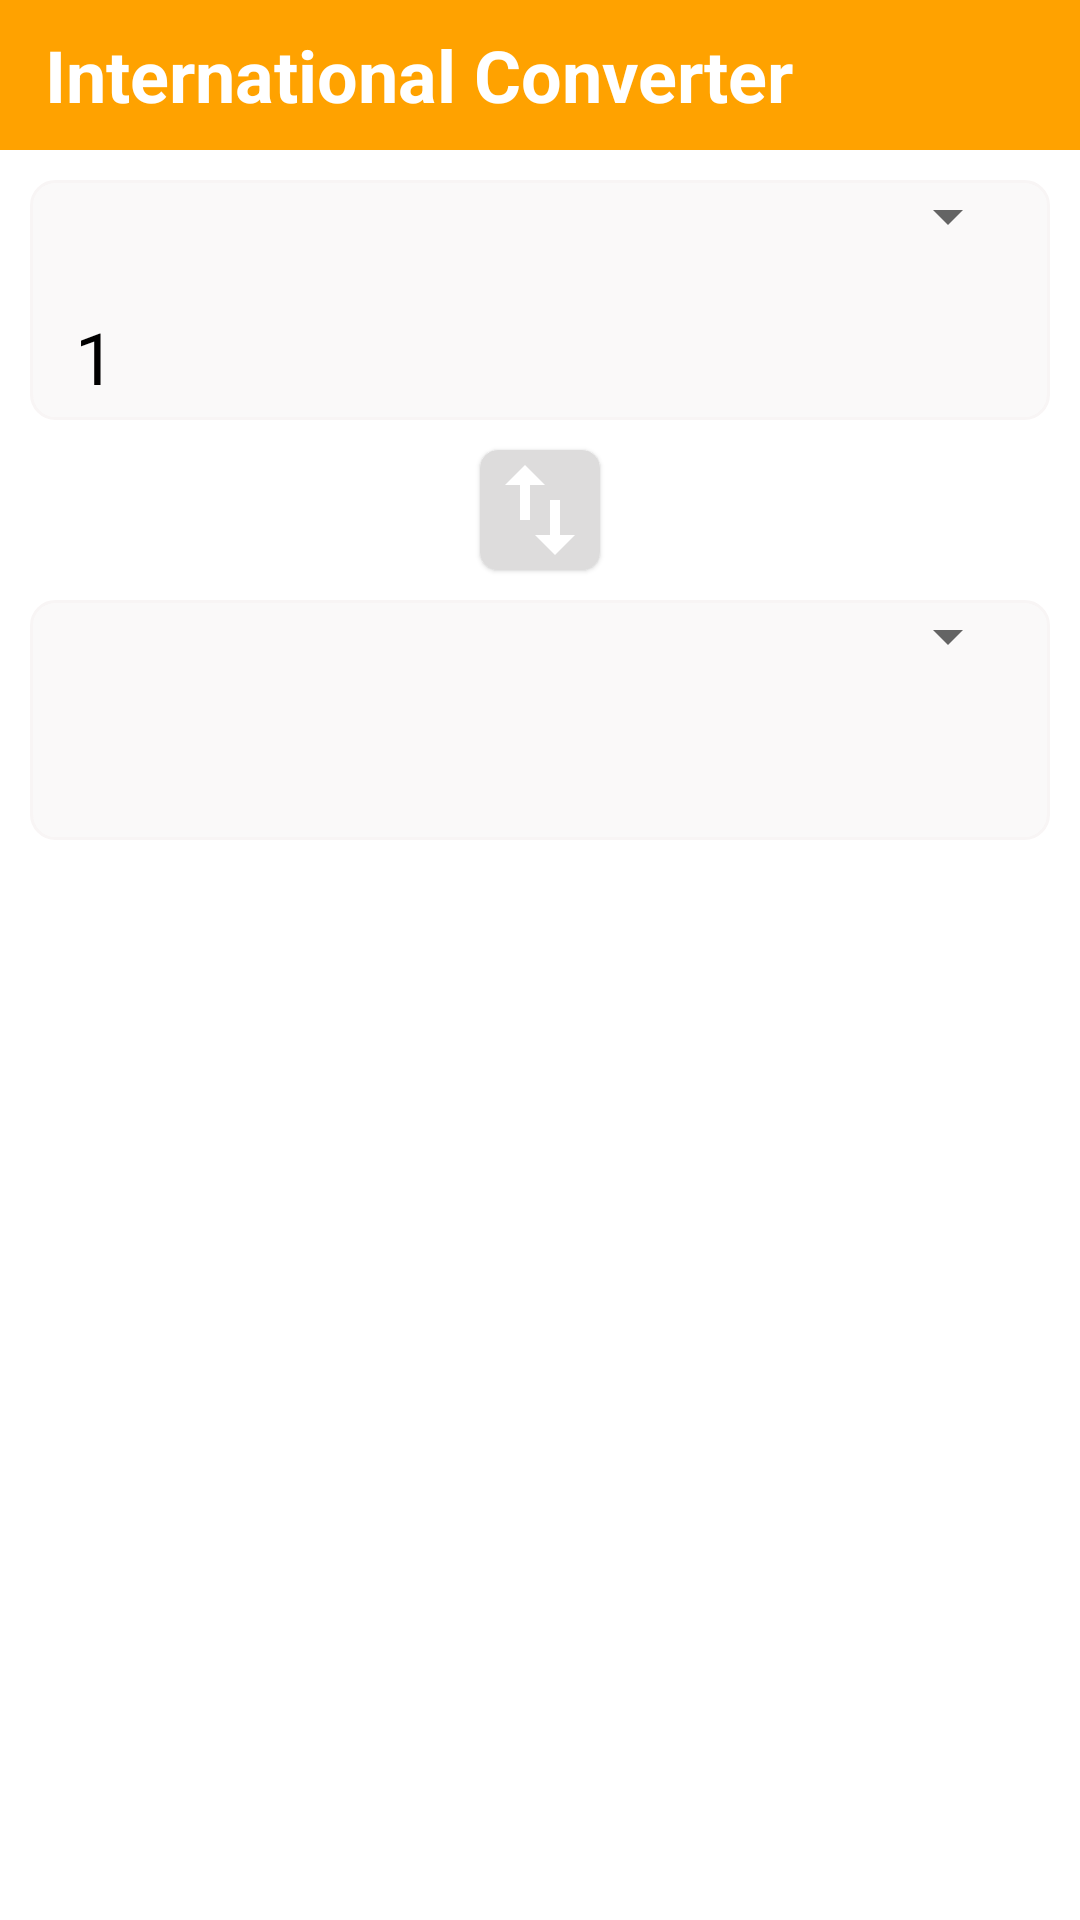

Point at icon controls on the screen. Image size 1080×1920, points as (x=x, y=y).
import export: (x=540, y=510)
